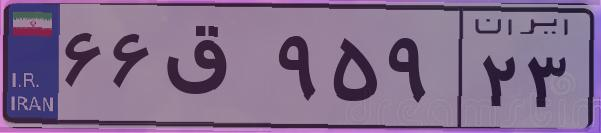2: (475, 38, 525, 113)
3: (525, 38, 570, 115)
5: (330, 28, 385, 110)
6: (57, 26, 110, 100), (110, 28, 158, 98)
9: (270, 28, 330, 110), (385, 28, 445, 110)
ق: (158, 20, 270, 120)
